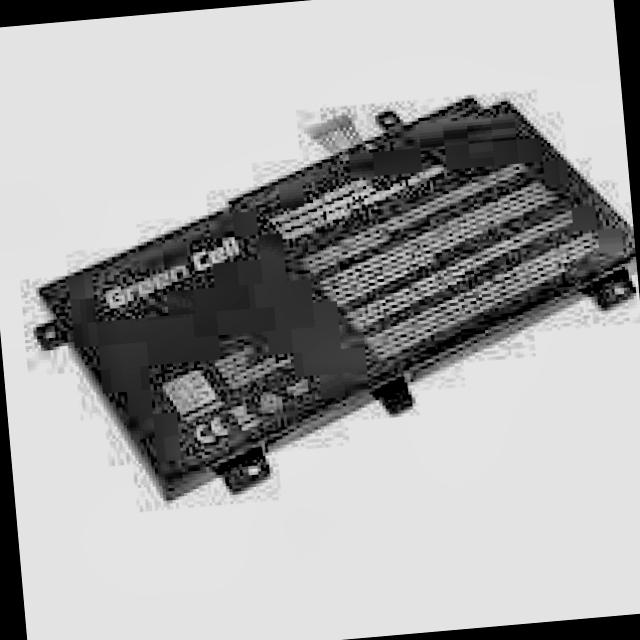Battery: (31, 91, 640, 491)
